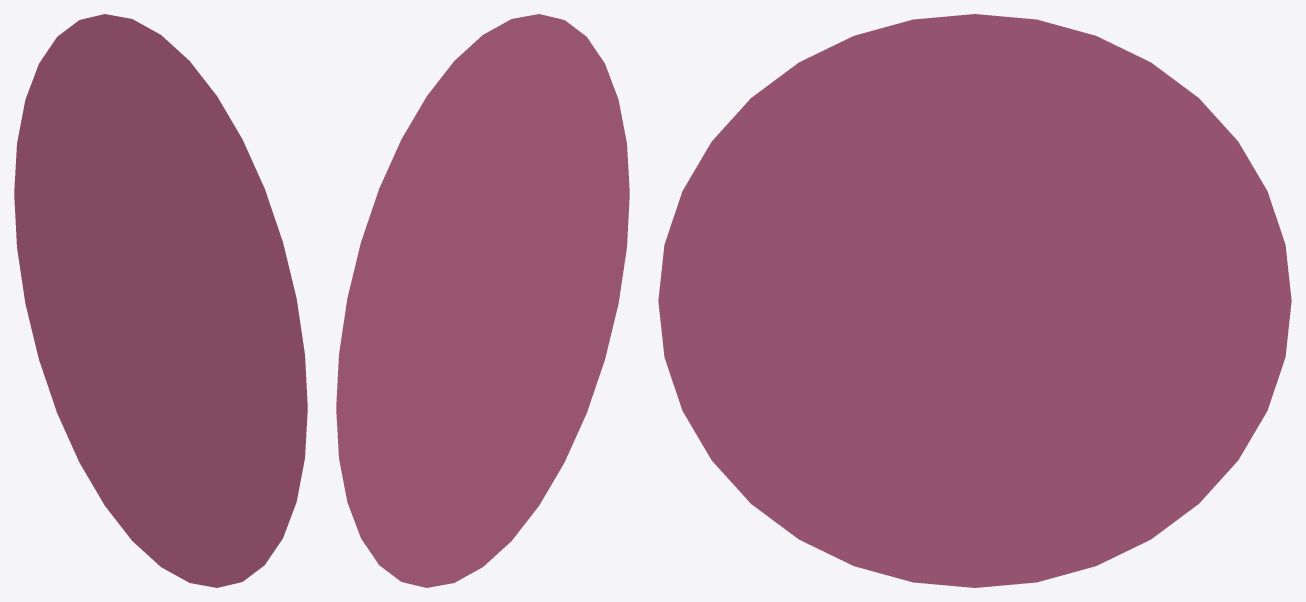
The model's file is sun.glb.
The picture shows the model from 3 angles, left to right: view 1: azimuth 30°, elevation 25°; view 2: azimuth 150°, elevation 25°; view 3: azimuth 270°, elevation 25°; orthographic projection. The views are drawn at different scales.
Parts seen in each view (by area): view 1: Circle.001; view 2: Circle.001; view 3: Circle.001.
Part boxes in pixels (box(x1,y1,x2,y2)): Circle.001: box(14, 14, 307, 587); Circle.001: box(336, 14, 629, 587); Circle.001: box(658, 14, 1291, 587).
Size of the model in its own units: 0 by 134 by 134.
1 material, 1 textured.
